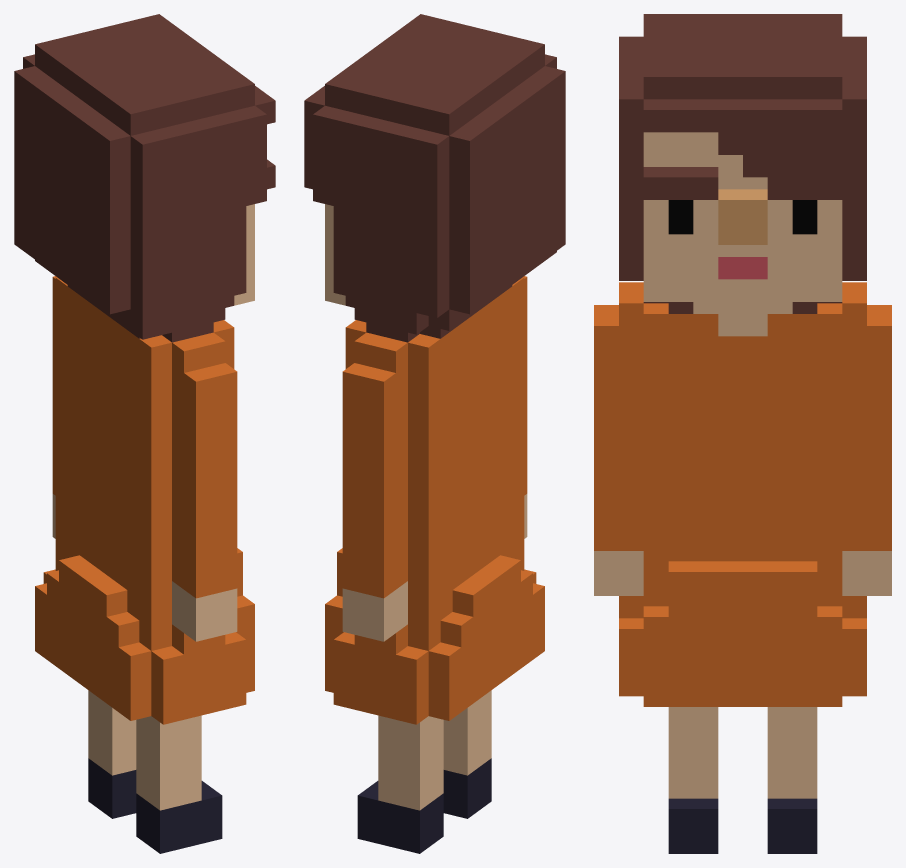
Rendered from scarf_girl.obj.
3 views of the same model, side by side, from view 1: azimuth 30°, elevation 25°; view 2: azimuth 150°, elevation 25°; view 3: azimuth 270°, elevation 25° (orthographic). The views are drawn at different scales.
Size of the model in its own units: 0.8 by 3.5 by 1.2.
Materials: 1 (1 with a texture image).
